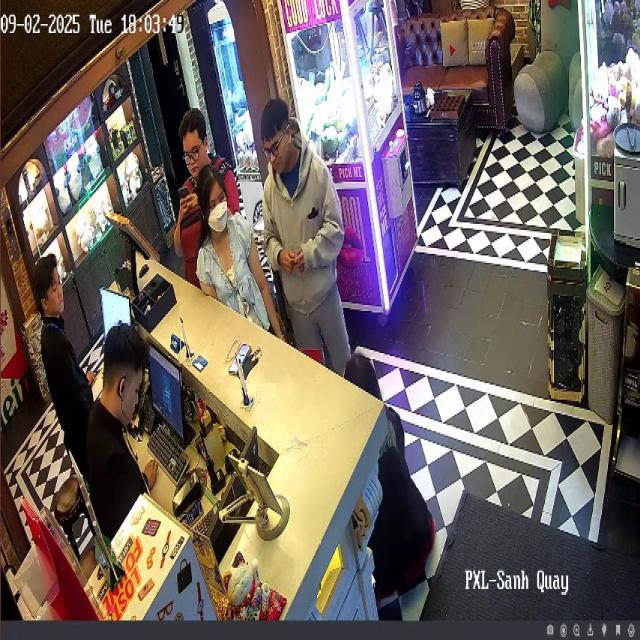khach: (337, 337, 448, 609), (258, 95, 362, 378), (190, 160, 288, 368), (167, 107, 252, 289)
nhan vien: (70, 312, 159, 569), (31, 242, 106, 492)
